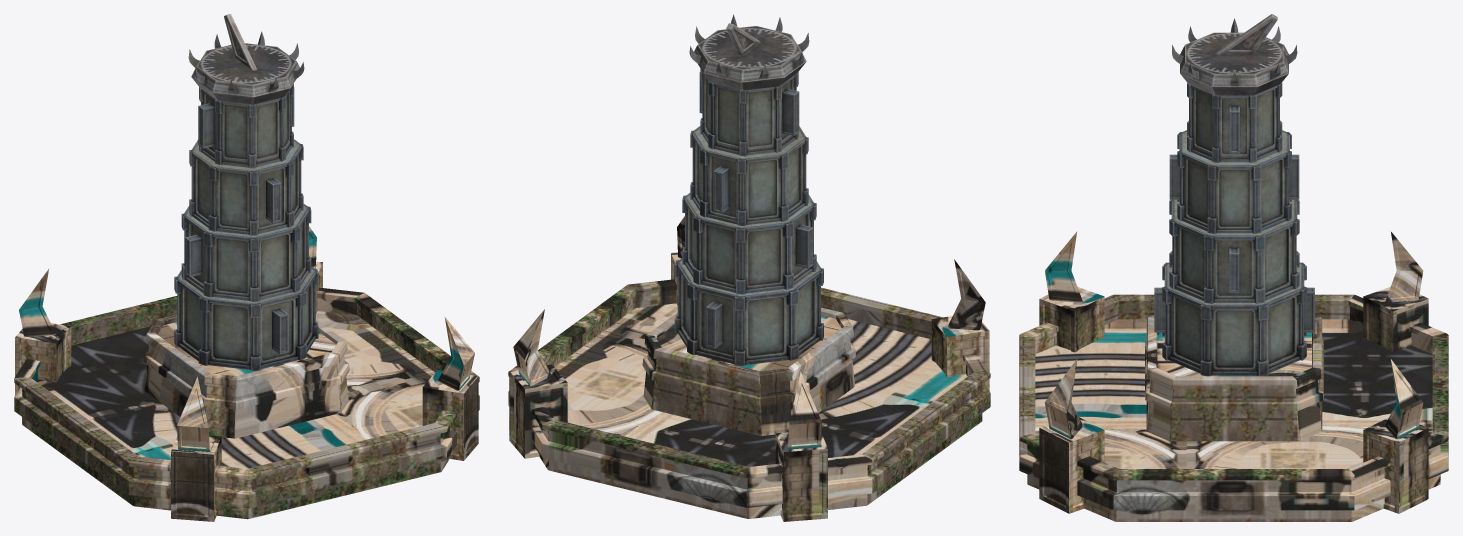
The model's file is 103-wonder-kronos.glb.
3 renders of one model, left to right at view 1: azimuth 30°, elevation 25°; view 2: azimuth 150°, elevation 25°; view 3: azimuth 270°, elevation 25°, orthographic. The views are drawn at different scales.
Size of the model in its own units: 16.01 by 17.27 by 16.01.
2 materials, 2 textured.
